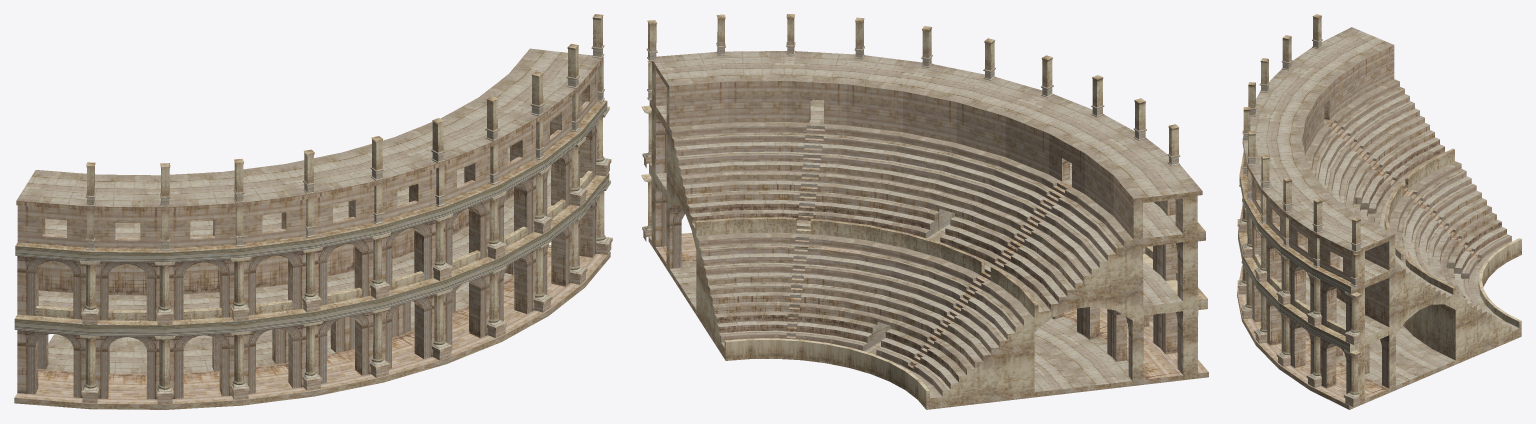
Rendered from ArenaSect1a.dae.
3 views of the same model, side by side, from view 1: azimuth 30°, elevation 25°; view 2: azimuth 150°, elevation 25°; view 3: azimuth 270°, elevation 25° (orthographic). The views are drawn at different scales.
Parts seen in each view (by area): view 1: S_ArenaSect1, S_ArenaColumnBases, S_ArenaWallSect, S_ArenaSectTrim, S_ArenaOuterRing; view 2: S_ArenaSect1, S_ArenaColumnBases, S_ArenaEndSect, S_ArenaSectTrim, S_ArenaWallSect; view 3: S_ArenaColumnBases, S_ArenaSect1, S_ArenaSectTrim, S_ArenaEndSect, S_ArenaWallSect, S_ArenaOuterRing.
Boxes of the visible parts, left/top/right/bottom form: S_ArenaSect1: left=14, top=57, right=612, bottom=404; S_ArenaColumnBases: left=16, top=45, right=604, bottom=373; S_ArenaWallSect: left=17, top=123, right=596, bottom=399; S_ArenaSectTrim: left=14, top=14, right=610, bottom=409; S_ArenaOuterRing: left=14, top=101, right=610, bottom=393; S_ArenaSect1: left=642, top=71, right=1208, bottom=396; S_ArenaColumnBases: left=646, top=42, right=1201, bottom=398; S_ArenaEndSect: left=648, top=61, right=1208, bottom=409; S_ArenaSectTrim: left=641, top=14, right=1207, bottom=409; S_ArenaWallSect: left=655, top=115, right=1183, bottom=380; S_ArenaColumnBases: left=1242, top=27, right=1518, bottom=385; S_ArenaSect1: left=1237, top=45, right=1511, bottom=406; S_ArenaSectTrim: left=1237, top=14, right=1521, bottom=409; S_ArenaEndSect: left=1349, top=234, right=1521, bottom=409; S_ArenaWallSect: left=1246, top=212, right=1389, bottom=393; S_ArenaOuterRing: left=1238, top=175, right=1360, bottom=398.
Bounding box in the file's own units: 5.77 × 2.2 × 3.02.
